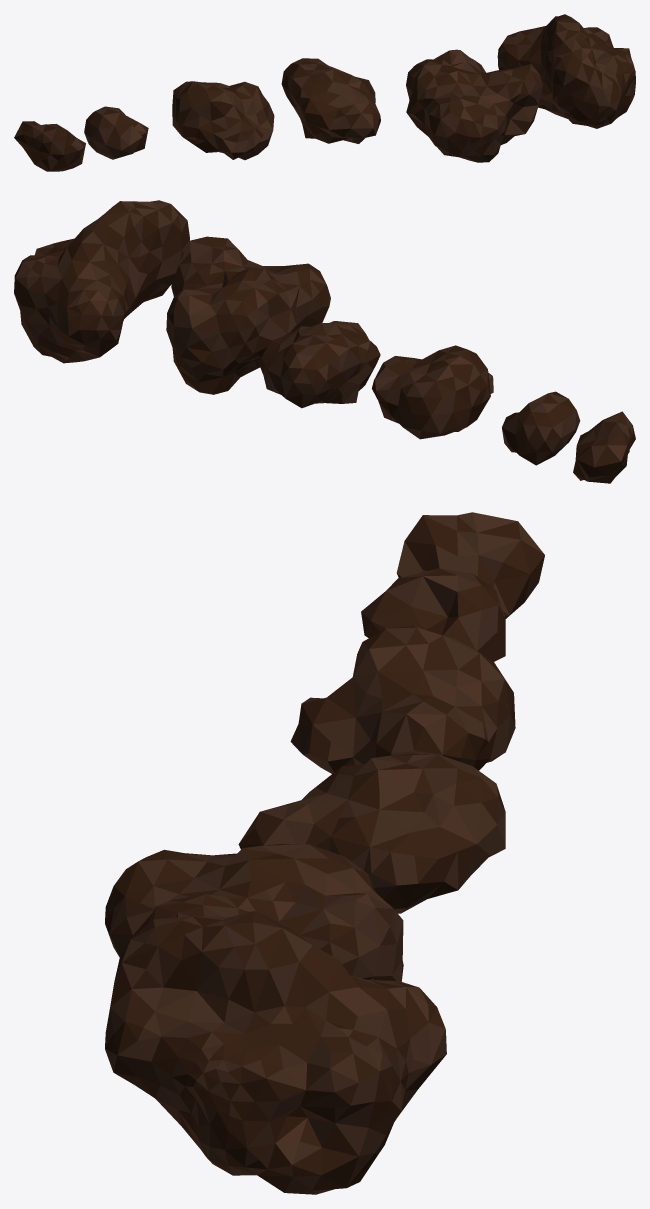
Rendered from rocks.fbx.
3 renders of one model, top to bottom at view 1: azimuth 30°, elevation 25°; view 2: azimuth 150°, elevation 25°; view 3: azimuth 270°, elevation 25°, orthographic. The views are drawn at different scales.
Visible parts, largest first — view 1: Rock_Big_2, Rock_Big_1, Rock_Medium_2, Rock_Medium_1, Rock_Small_2, Rock_Small_1; view 2: Rock_Big_1, Rock_Big_2, Rock_Medium_2, Rock_Medium_1, Rock_Small_1, Rock_Small_2; view 3: Rock_Big_1, Rock_Medium_1, Rock_Big_2, Rock_Medium_2, Rock_Small_2, Rock_Small_1.
Boxes of the visible parts, x1,y1,x2,y2 form: Rock_Big_2: [406, 49, 542, 162]; Rock_Big_1: [497, 14, 635, 128]; Rock_Medium_2: [172, 81, 274, 160]; Rock_Medium_1: [281, 58, 380, 143]; Rock_Small_2: [14, 121, 85, 171]; Rock_Small_1: [84, 106, 148, 159]; Rock_Big_1: [14, 200, 189, 363]; Rock_Big_2: [166, 236, 330, 394]; Rock_Medium_2: [372, 345, 493, 439]; Rock_Medium_1: [258, 321, 380, 408]; Rock_Small_1: [502, 391, 580, 465]; Rock_Small_2: [573, 411, 635, 483]; Rock_Big_1: [105, 911, 446, 1194]; Rock_Medium_1: [238, 753, 505, 913]; Rock_Big_2: [105, 843, 403, 981]; Rock_Medium_2: [290, 626, 515, 773]; Rock_Small_2: [396, 512, 544, 618]; Rock_Small_1: [361, 568, 505, 661].
Size of the model in its own units: 2660 by 557 by 916.
